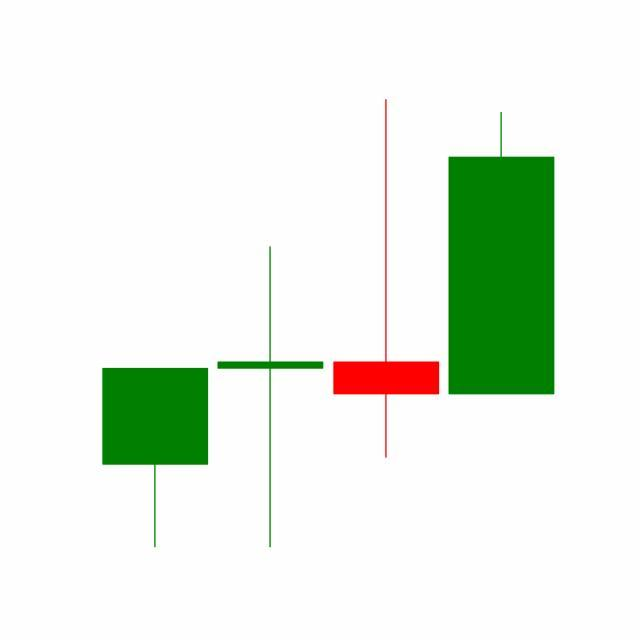Spinning Top: (329, 96, 445, 463)
